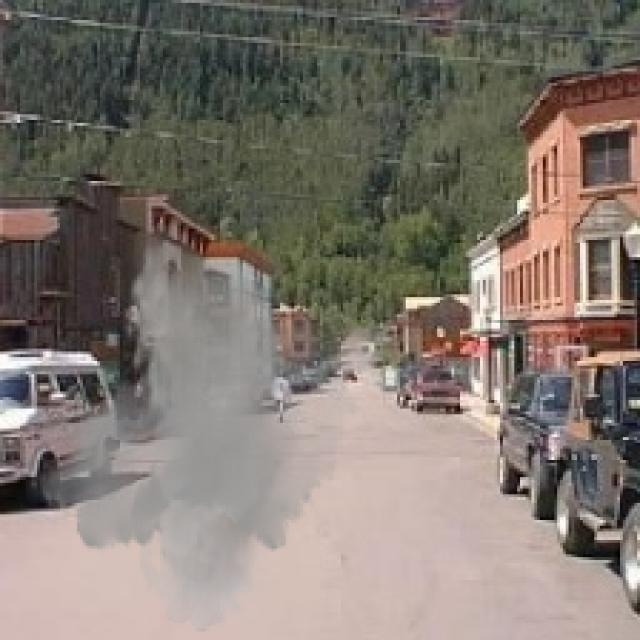Smoke: (28, 239, 403, 632)
